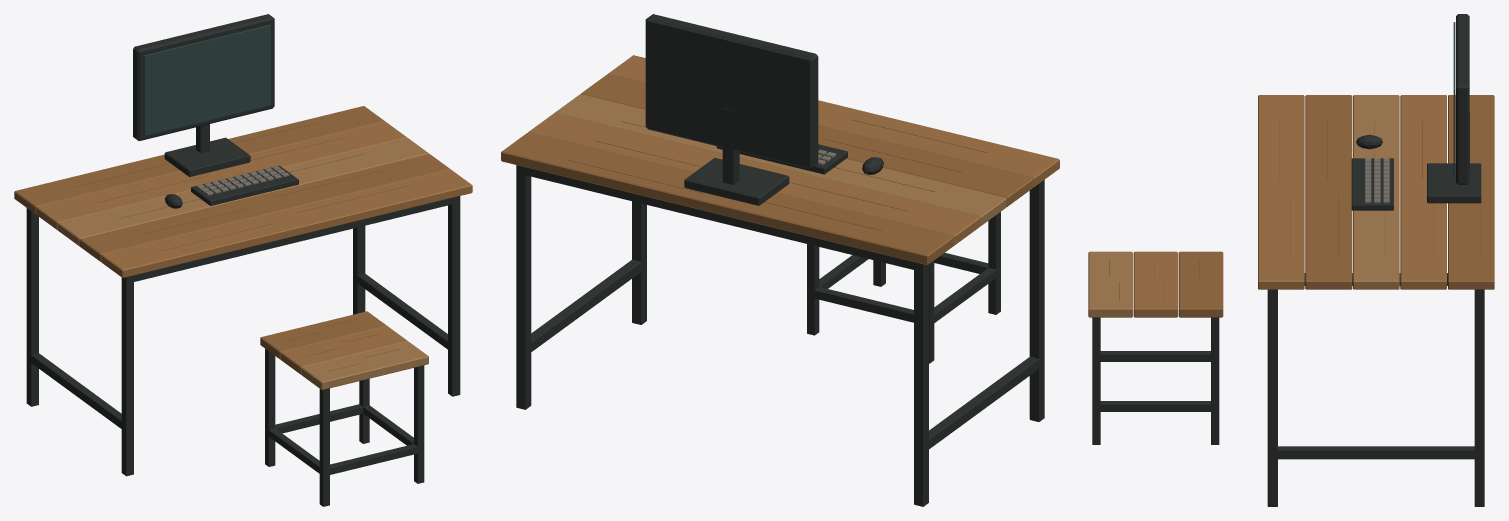
File: workstation.glb
3 views of the same model, side by side, from view 1: azimuth 30°, elevation 25°; view 2: azimuth 150°, elevation 25°; view 3: azimuth 270°, elevation 25° (orthographic). The views are drawn at different scales.
Visible parts, largest first — view 1: body, screen; view 2: body; view 3: body, screen.
Boxes of the visible parts, x1=… form: body: x1=14, y1=14, x2=472, y2=506; screen: x1=144, y1=24, x2=270, y2=135; body: x1=501, y1=14, x2=1059, y2=506; body: x1=1088, y1=14, x2=1494, y2=506; screen: x1=1453, y1=22, x2=1455, y2=176.
Size of the model in its own units: 1.3 by 1.2 by 1.2.
